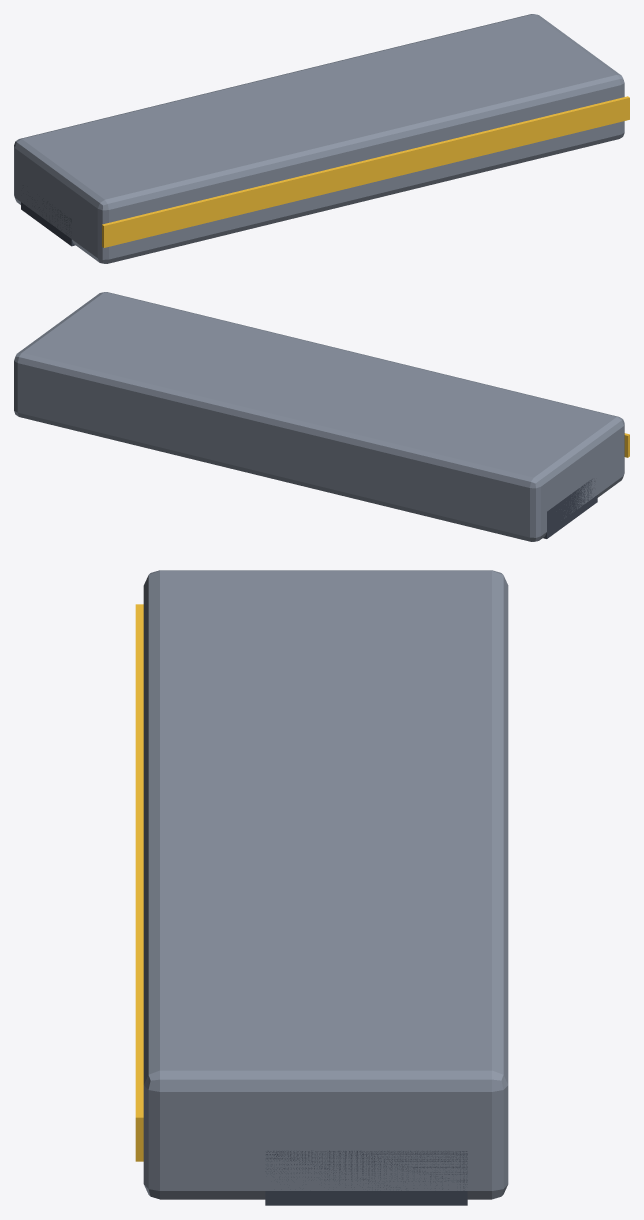
The model's file is bg_floor_ledge.glb.
The picture shows the model from 3 angles, top to bottom: view 1: azimuth 30°, elevation 25°; view 2: azimuth 150°, elevation 25°; view 3: azimuth 270°, elevation 25°; orthographic projection. The views are drawn at different scales.
Visible parts, largest first — view 1: bg_floor_ledge; view 2: bg_floor_ledge; view 3: bg_floor_ledge.
Boxes of the visible parts, x1,y1,x2,y2 form: bg_floor_ledge: (14, 14, 629, 263); bg_floor_ledge: (14, 292, 629, 541); bg_floor_ledge: (135, 570, 508, 1205).
Bounding box in the file's own units: 3 × 0.35 × 0.92.
